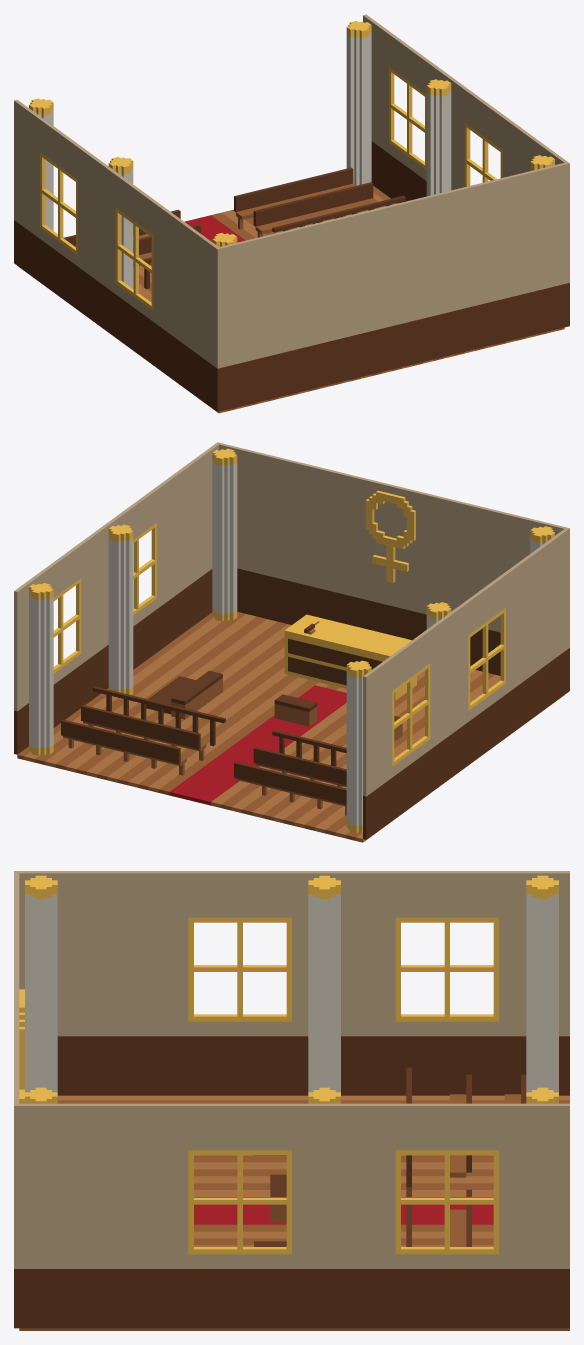
The model's file is juzgado.obj.
The picture shows the model from 3 angles, top to bottom: view 1: azimuth 30°, elevation 25°; view 2: azimuth 150°, elevation 25°; view 3: azimuth 270°, elevation 25°; orthographic projection. The views are drawn at different scales.
Parts seen in each view (by area): view 1: pared_pared, pared_madera_oscura, columnas, marcos, bancas_respaldo, capiteles, bancas, piso_madera_clara, piso_madera, baranda, alfombra; view 2: pared_pared, pared_madera_oscura, piso_madera_clara, columnas, piso_madera, bancas_respaldo, marcos, alfombra, estrado_oro, capiteles, baranda, escudo (+6 smaller); view 3: pared_pared, pared_madera_oscura, columnas, marcos, piso_madera, piso_madera_clara, capiteles, alfombra, bancas, bancas_respaldo, baranda, escudo.
Part boxes in pixels (x1,y1,x2,y2): pared_pared: [14, 14, 569, 368]; pared_madera_oscura: [14, 141, 569, 411]; columnas: [39, 32, 532, 288]; marcos: [40, 67, 502, 310]; bancas_respaldo: [63, 167, 373, 254]; capiteles: [29, 21, 554, 246]; bancas: [133, 183, 377, 266]; piso_madera_clara: [18, 192, 557, 413]; piso_madera: [133, 186, 564, 411]; baranda: [133, 195, 405, 289]; alfombra: [184, 215, 245, 242]; pared_pared: [14, 442, 569, 796]; pared_madera_oscura: [14, 568, 569, 839]; piso_madera_clara: [24, 614, 564, 842]; columnas: [29, 460, 544, 826]; piso_madera: [17, 612, 494, 840]; bancas_respaldo: [61, 705, 346, 804]; marcos: [53, 523, 505, 766]; alfombra: [169, 685, 346, 805]; estrado_oro: [284, 614, 416, 700]; capiteles: [29, 448, 554, 833]; baranda: [92, 686, 346, 766]; escudo: [365, 490, 415, 582]; pared_pared: [14, 871, 569, 1268]; pared_madera_oscura: [14, 1036, 569, 1328]; columnas: [25, 894, 558, 1092]; marcos: [188, 917, 498, 1254]; piso_madera: [19, 1100, 569, 1330]; piso_madera_clara: [57, 1095, 569, 1246]; capiteles: [25, 875, 558, 1103]; alfombra: [194, 1197, 493, 1224]; bancas: [450, 1094, 520, 1246]; bancas_respaldo: [466, 1074, 526, 1246]; baranda: [406, 1067, 411, 1246]; escudo: [19, 989, 24, 1103].
Size of the model in its own units: 10.2 by 4.6 by 10.2.
